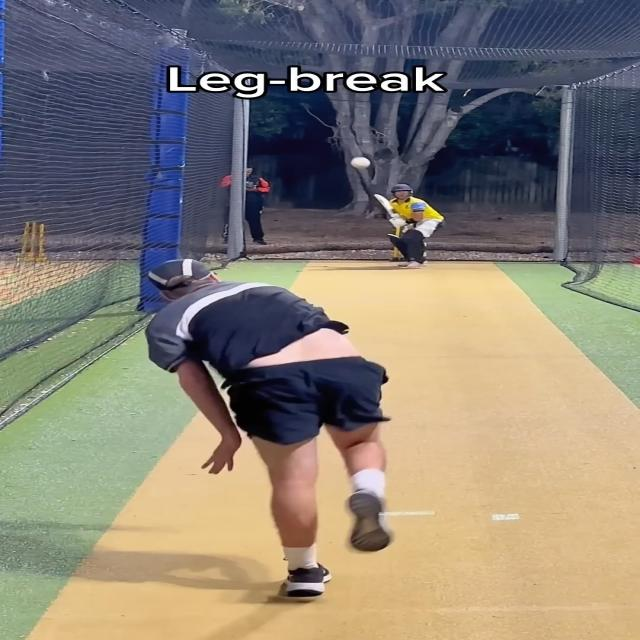Cricket ball: (347, 154, 376, 172)
